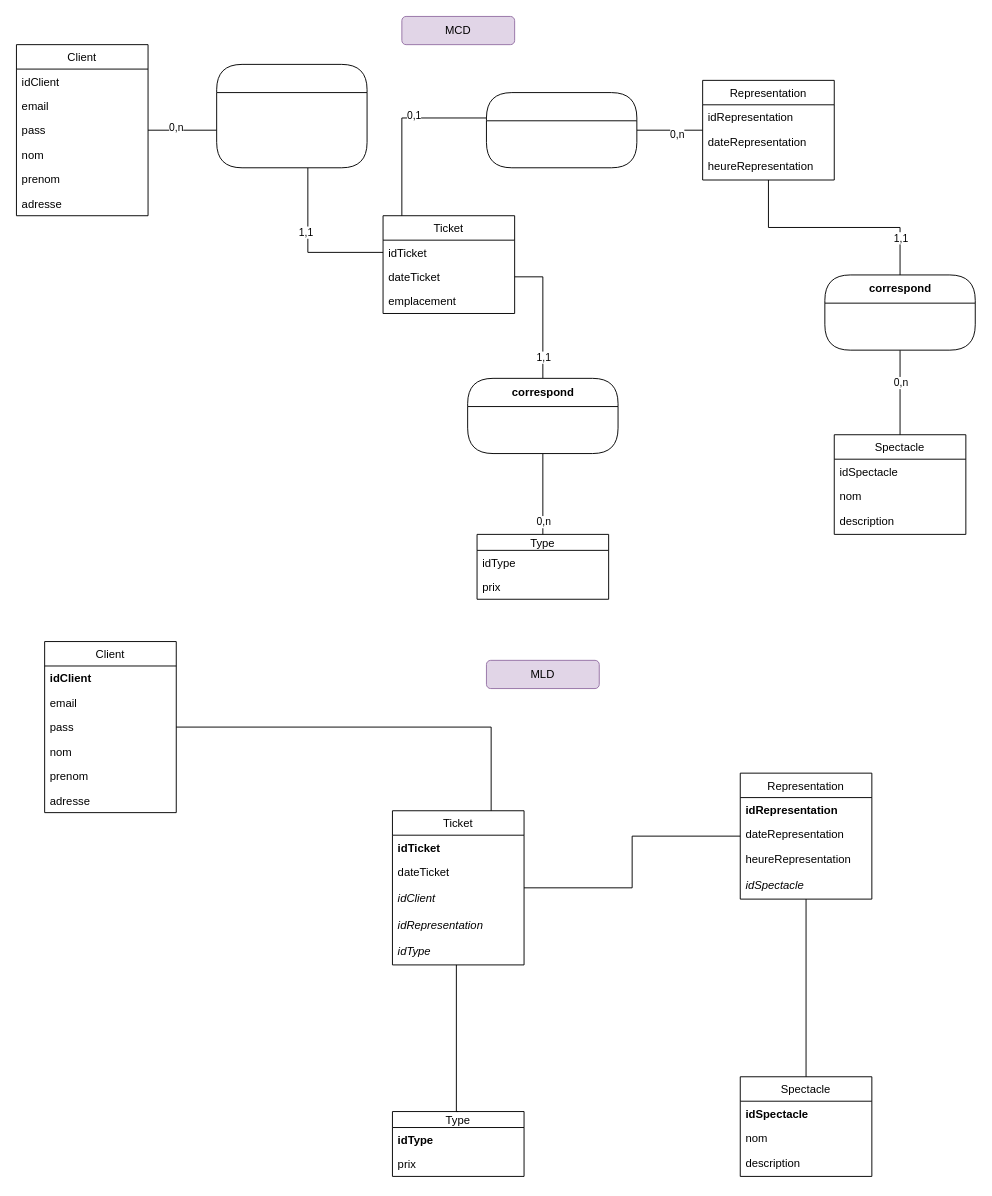
The diagram is 992 pixels wide and 1196 high, and some of its shapes have lost their labels. Each missing label, with the centre of its shape:
achete: the point at 291,115
concerne: the point at 561,130
